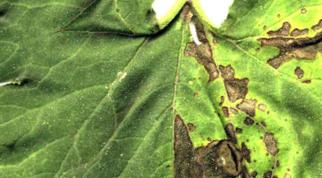Tomato leaf bacterial spot: (67, 0, 322, 178)
